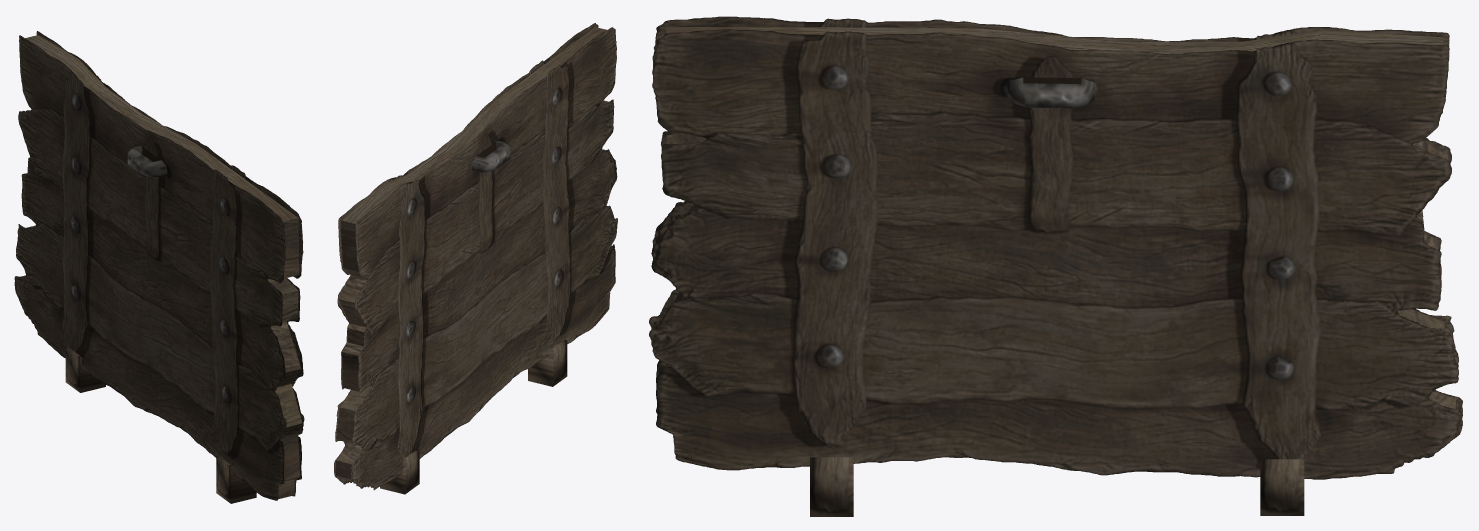
Rendered from MEP_Door_01_a.fbx.
3 views of the same model, side by side, from view 1: azimuth 30°, elevation 25°; view 2: azimuth 150°, elevation 25°; view 3: azimuth 270°, elevation 25° (orthographic). The views are drawn at different scales.
Parts seen in each view (by area): view 1: MEP_Door_01; view 2: MEP_Door_01; view 3: MEP_Door_01.
Boxes of the visible parts, <box> form: MEP_Door_01: <box>14,31,304,503</box>; MEP_Door_01: <box>334,23,617,494</box>; MEP_Door_01: <box>649,16,1462,516</box>.
Size of the model in its own units: 0.2551 by 1.58 by 2.4.
